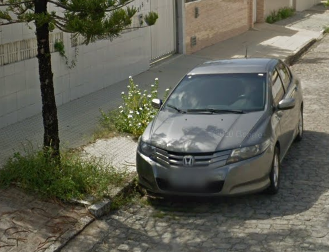car: (134, 45, 306, 204)
